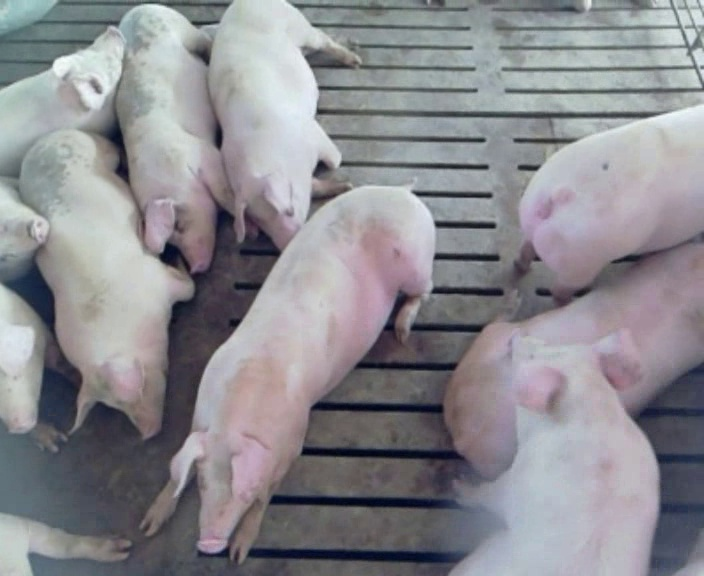pig: (141, 186, 433, 560), (20, 131, 193, 437), (452, 331, 658, 573), (208, 2, 360, 248), (517, 104, 703, 298), (0, 27, 124, 176)
